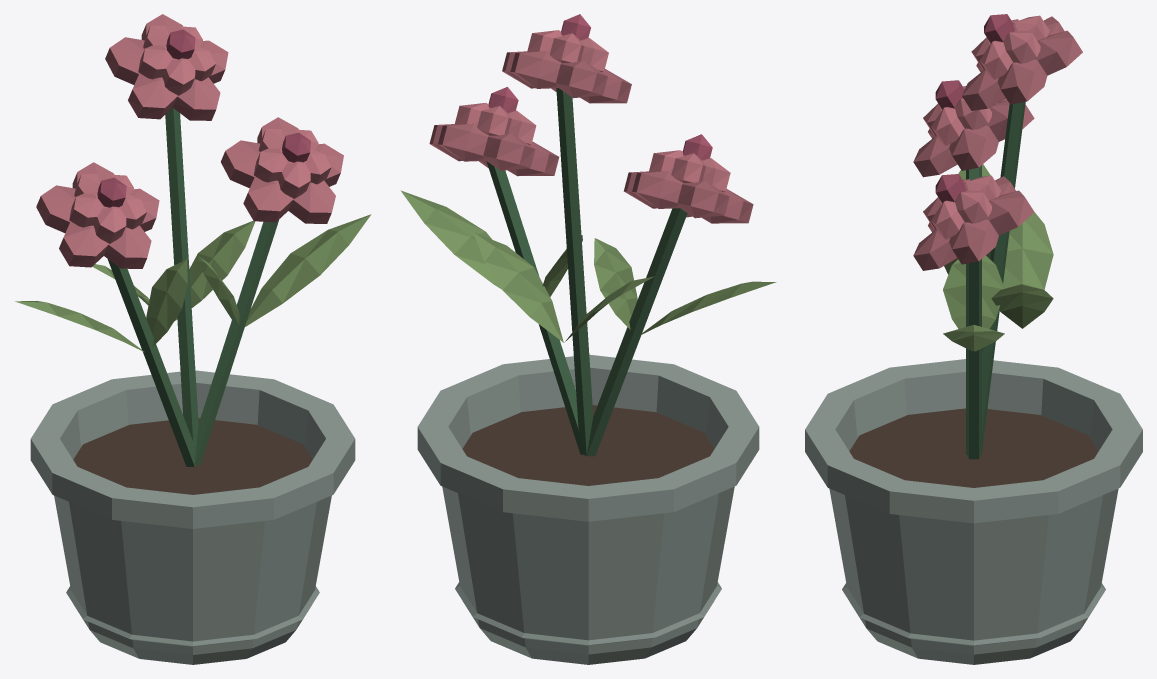
The model's file is decor_pot_rose.glb.
3 views of the same model, side by side, from view 1: azimuth 30°, elevation 25°; view 2: azimuth 150°, elevation 25°; view 3: azimuth 270°, elevation 25° (orthographic). The views are drawn at different scales.
Parts seen in each view (by area): view 1: geometry; view 2: geometry; view 3: geometry.
Part boxes in pixels (x1,y1,x2,y2): geometry: (15,14,371,664); geometry: (400,14,776,664); geometry: (805,14,1142,664).
Bounding box in the file's own units: 0.62 × 0.9595 × 0.4876.
